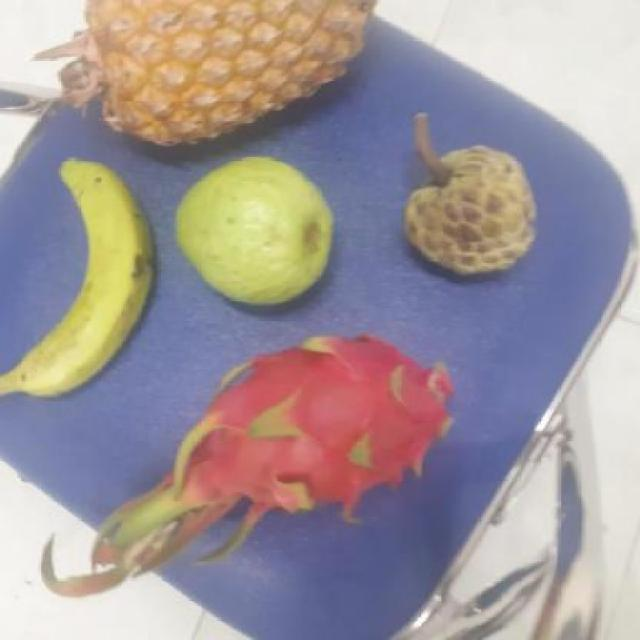banana: (4, 159, 159, 403)
dragon fruit: (178, 330, 468, 527)
guava: (176, 160, 344, 306)
pineapple: (88, 0, 377, 138)
sugar apple: (406, 142, 542, 276)
